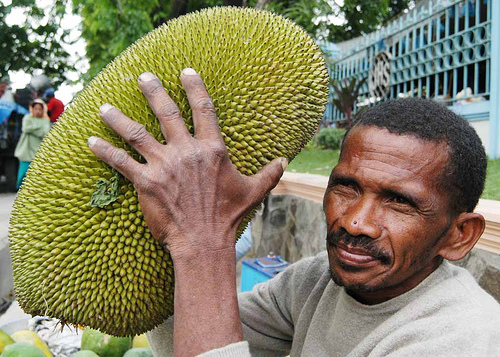jackfruit: (9, 5, 330, 339)
